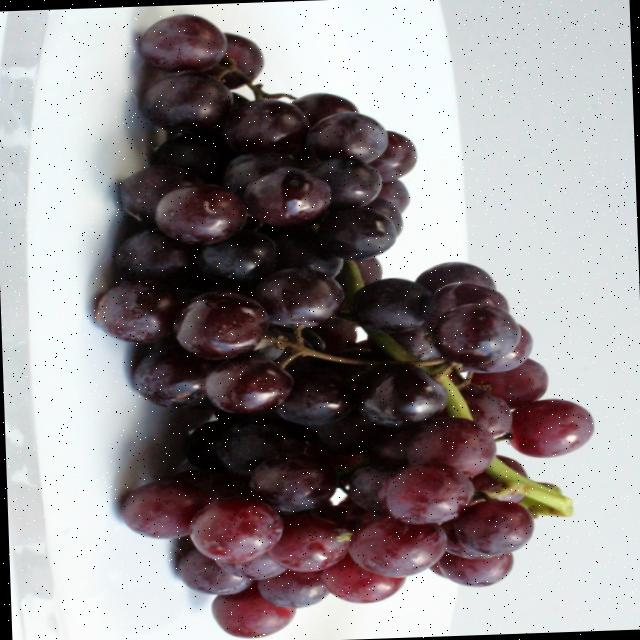grape: (95, 14, 592, 637)
